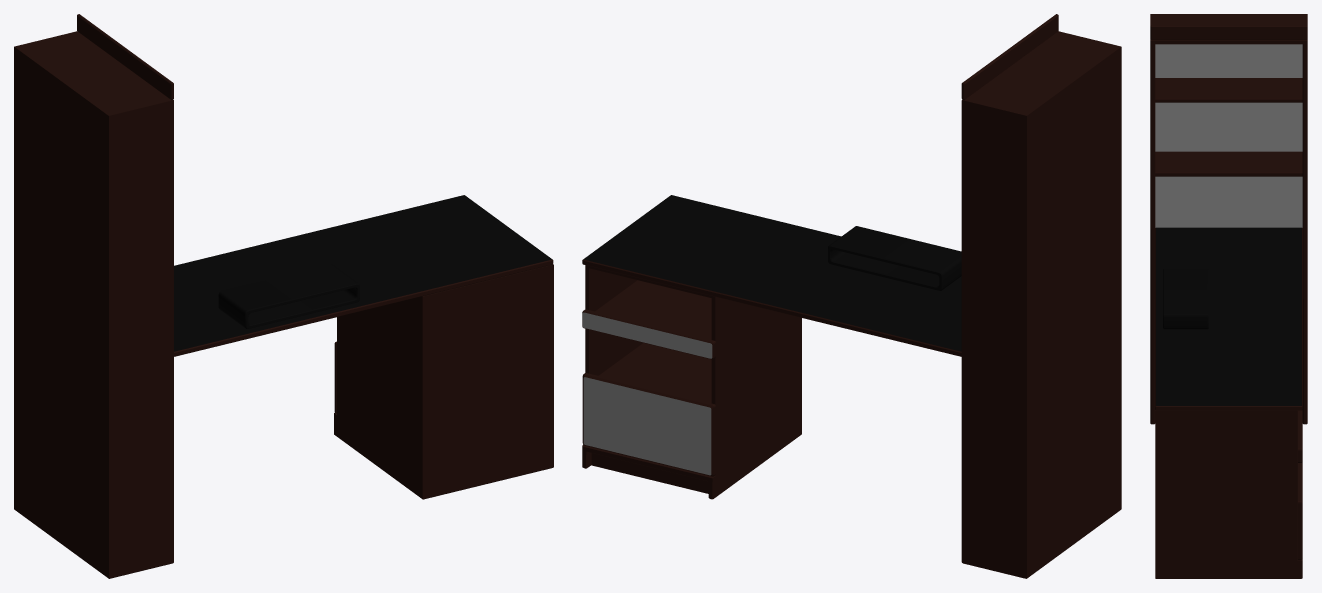
The model's file is h-005_desk_01_F.FBX.
3 renders of one model, left to right at view 1: azimuth 30°, elevation 25°; view 2: azimuth 150°, elevation 25°; view 3: azimuth 270°, elevation 25°, orthographic. The views are drawn at different scales.
Parts seen in each view (by area): view 1: h-005_desk_01_frame, h-005_desk_01_etc; view 2: h-005_desk_01_frame, h-005_desk_01, h-005_desk_01_etc; view 3: h-005_desk_01_frame, h-005_desk_01_etc, h-005_desk_01.
Part boxes in pixels (x1,y1,x2,y2): h-005_desk_01_frame: (14, 14, 553, 578); h-005_desk_01_etc: (218, 264, 359, 328); h-005_desk_01_frame: (582, 14, 1121, 578); h-005_desk_01: (582, 280, 715, 476); h-005_desk_01_etc: (828, 226, 961, 290); h-005_desk_01_frame: (1150, 14, 1307, 578); h-005_desk_01_etc: (1163, 269, 1208, 329); h-005_desk_01: (1298, 410, 1302, 560).
Bounding box in the file's own units: 27.3 × 28 × 10.
